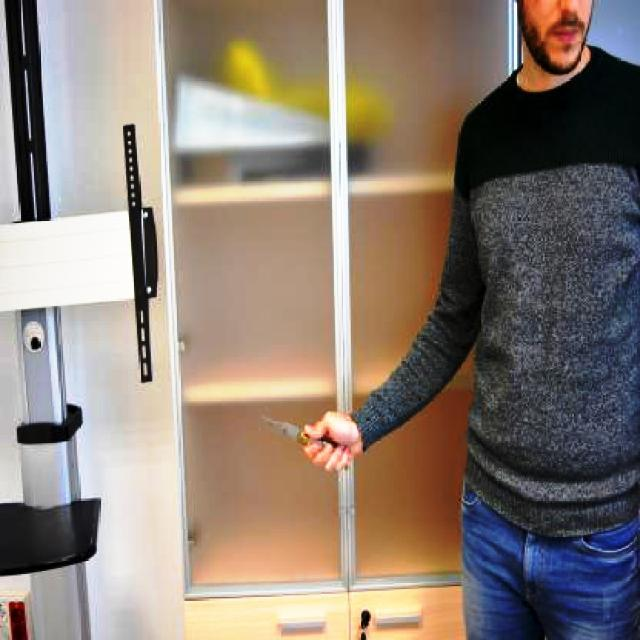Knife: (256, 408, 348, 463)
